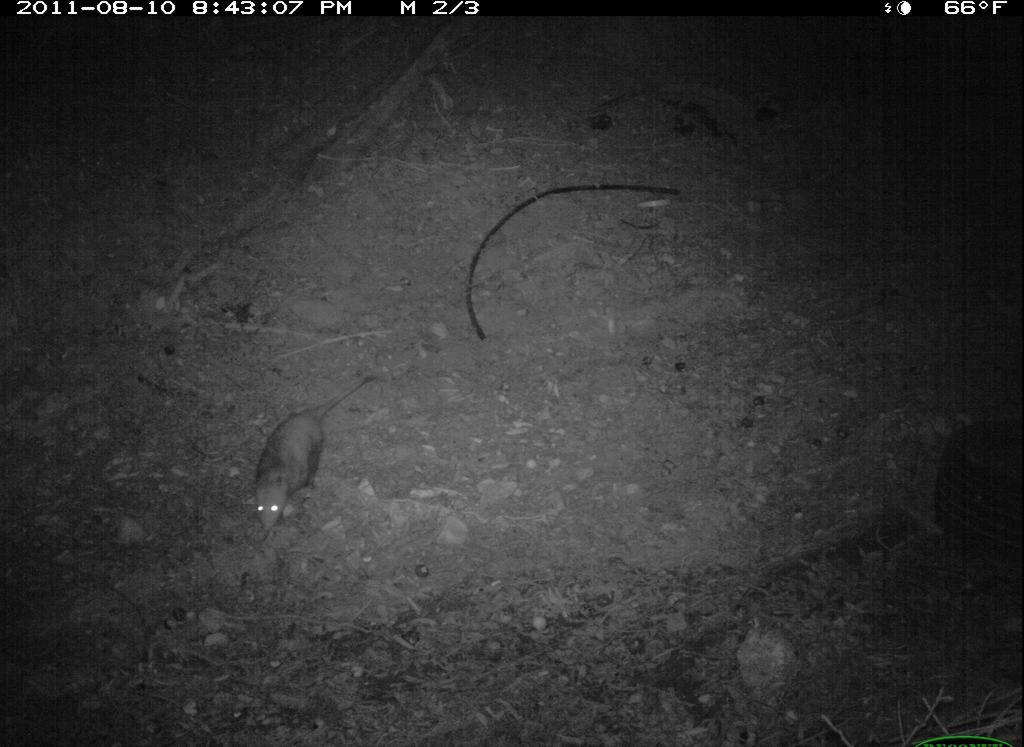opossum: (246, 372, 370, 534)
